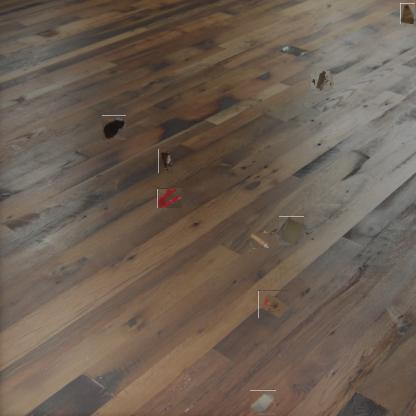dirty: (258, 290, 289, 318), (278, 217, 305, 245), (251, 390, 276, 414), (158, 149, 173, 173), (313, 73, 332, 91), (251, 231, 269, 249), (400, 3, 415, 24)
liquid: (102, 115, 126, 140), (157, 188, 182, 208)
